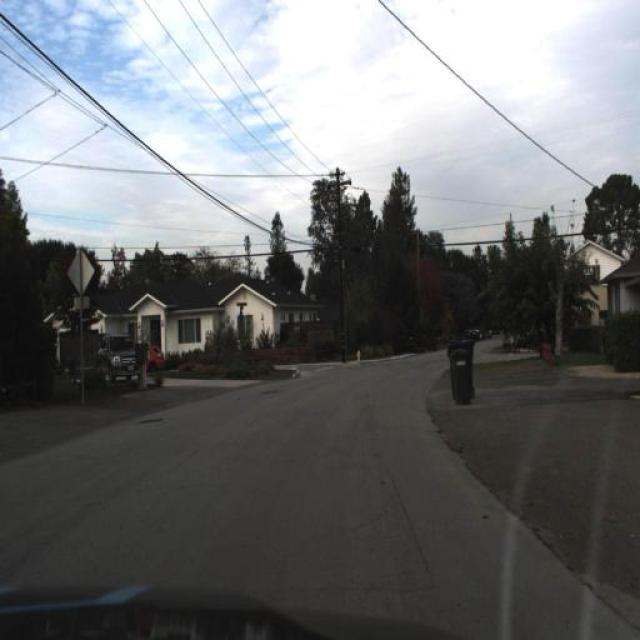car: (98, 331, 131, 379), (144, 340, 170, 372), (146, 343, 164, 376)
